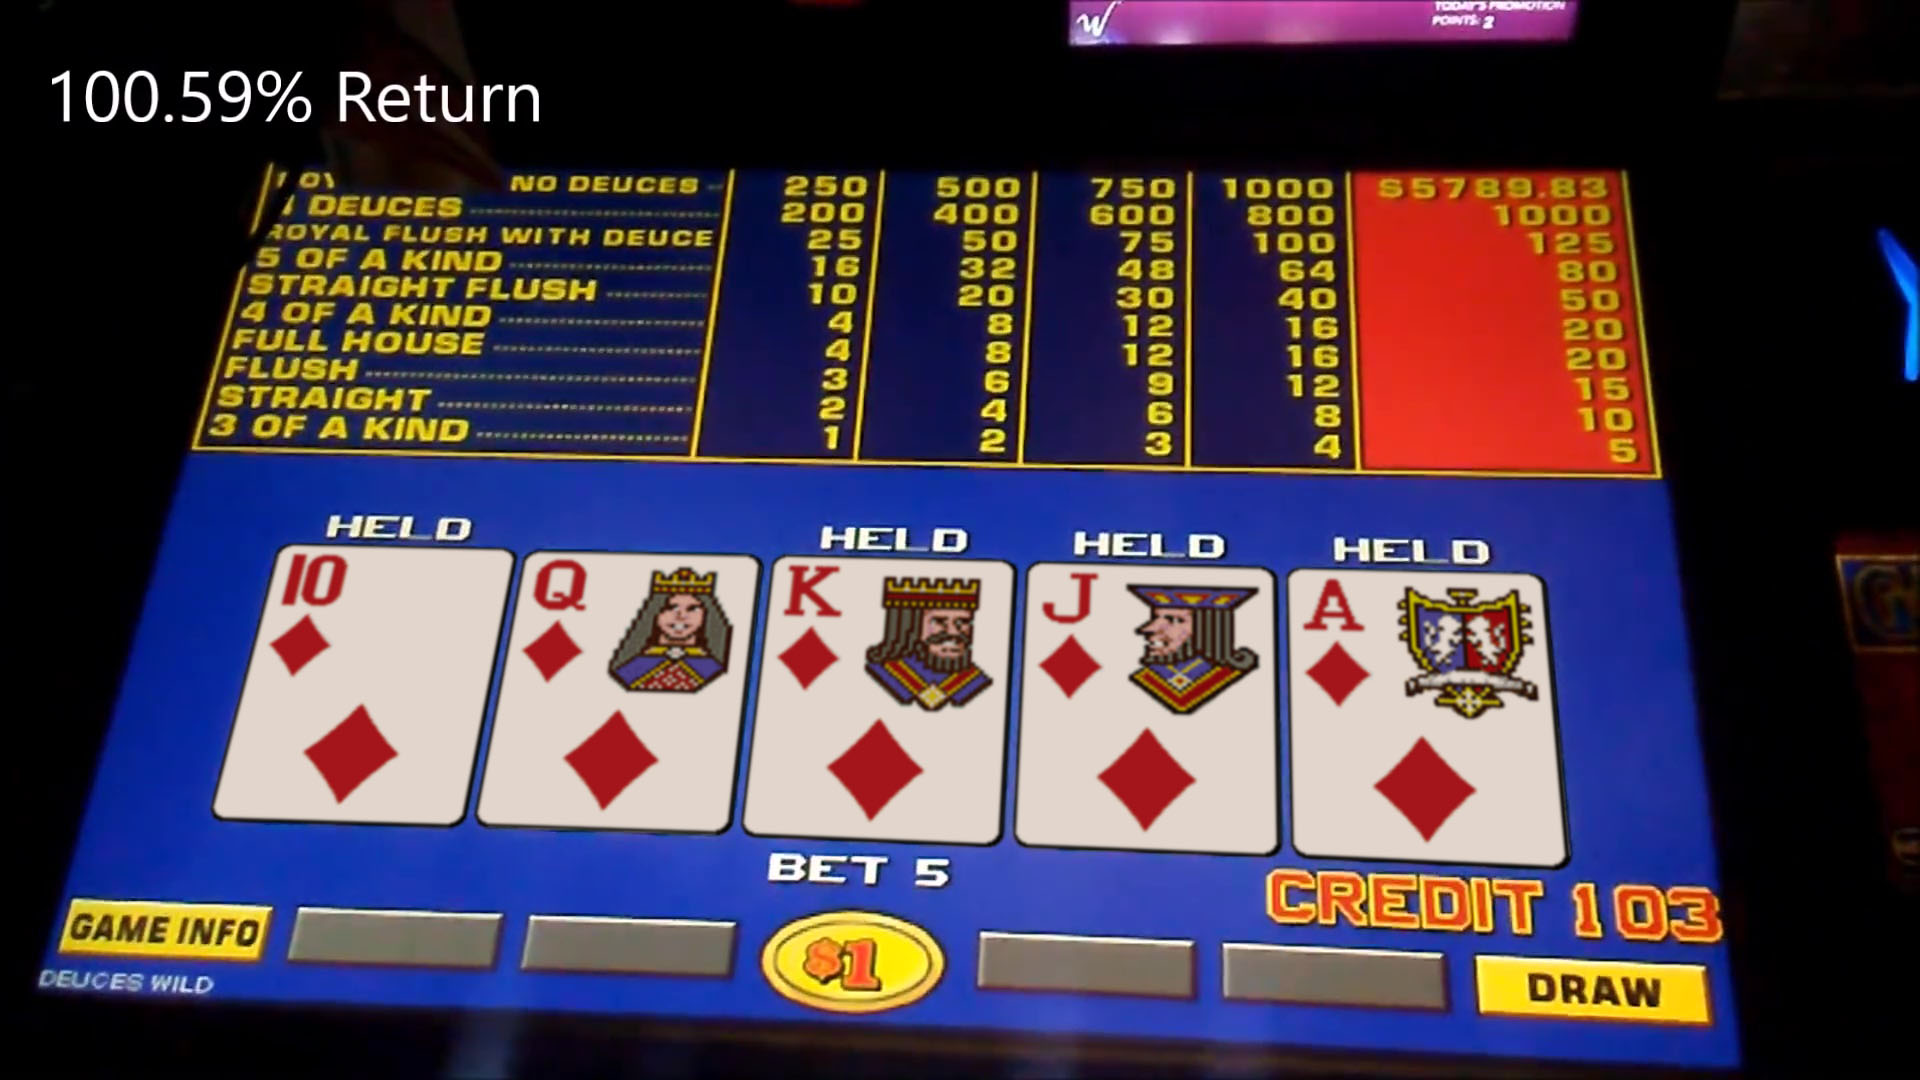DA: (1294, 575, 1540, 707)
DJ: (1027, 566, 1270, 704)
DK: (771, 558, 1007, 696)
DQ: (520, 553, 745, 688)
DT: (265, 549, 491, 684)
